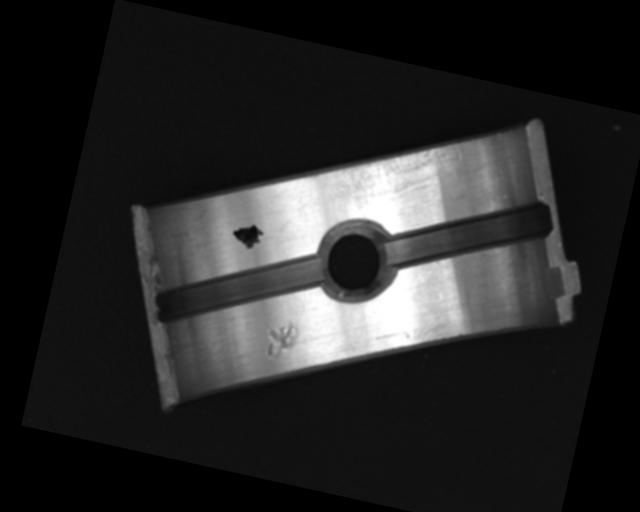blot: (228, 219, 266, 254)
bruise: (260, 313, 303, 363)
gap: (381, 172, 558, 303), (152, 224, 327, 354)
hole: (314, 212, 397, 310)
scratch: (322, 116, 465, 230)
